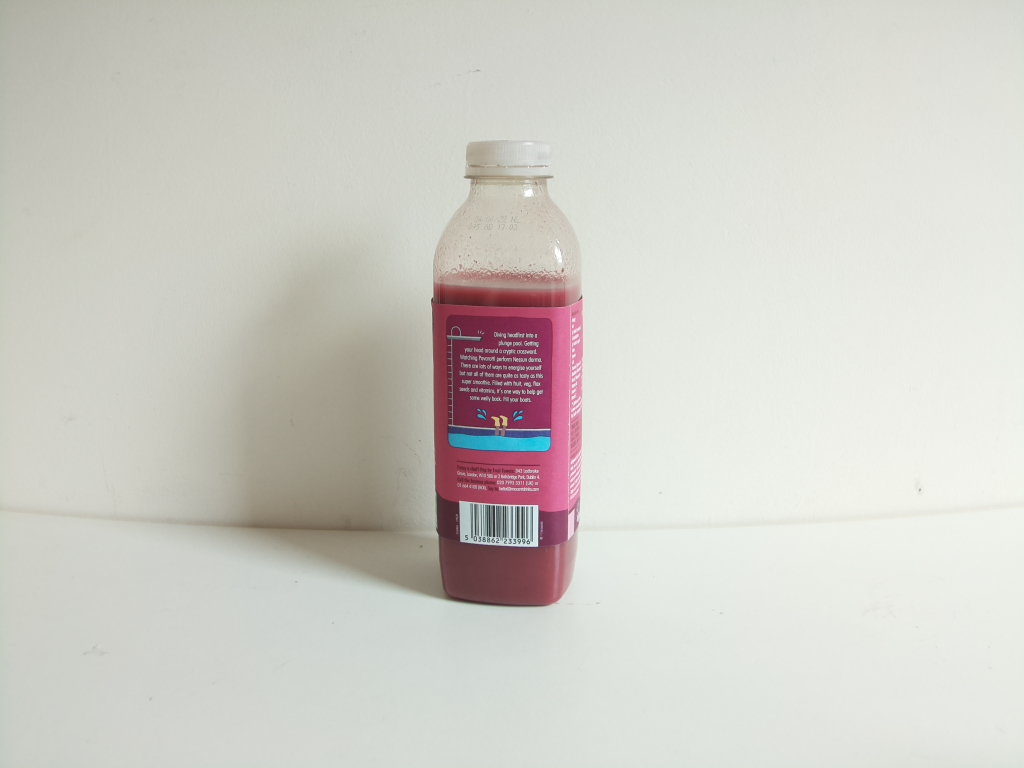juice: (431, 135, 589, 612)
